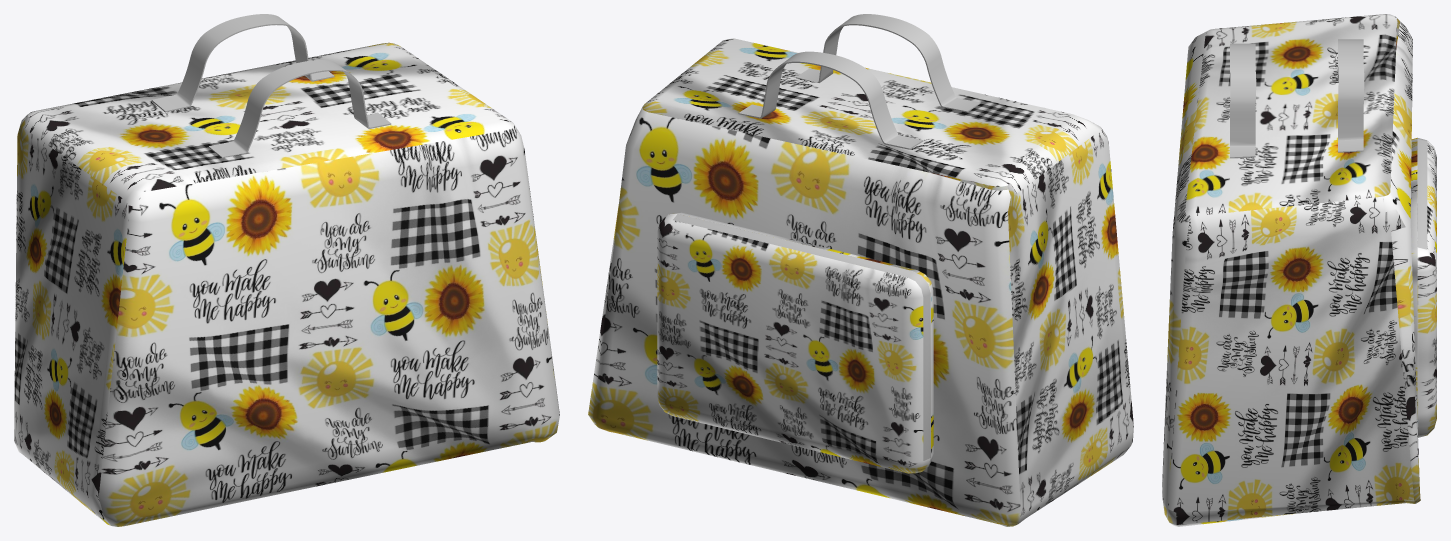
The model's file is Baby bag.fbx.
The picture shows the model from 3 angles, left to right: view 1: azimuth 30°, elevation 25°; view 2: azimuth 150°, elevation 25°; view 3: azimuth 270°, elevation 25°; orthographic projection. The views are drawn at different scales.
Parts seen in each view (by area): view 1: Baby bag; view 2: Baby bag; view 3: Baby bag.
Part boxes in pixels (x1,y1,x2,y2): Baby bag: (14, 14, 559, 526); Baby bag: (588, 14, 1133, 526); Baby bag: (1162, 14, 1436, 526).
Size of the model in its own units: 38.43 by 32.76 by 21.36.
